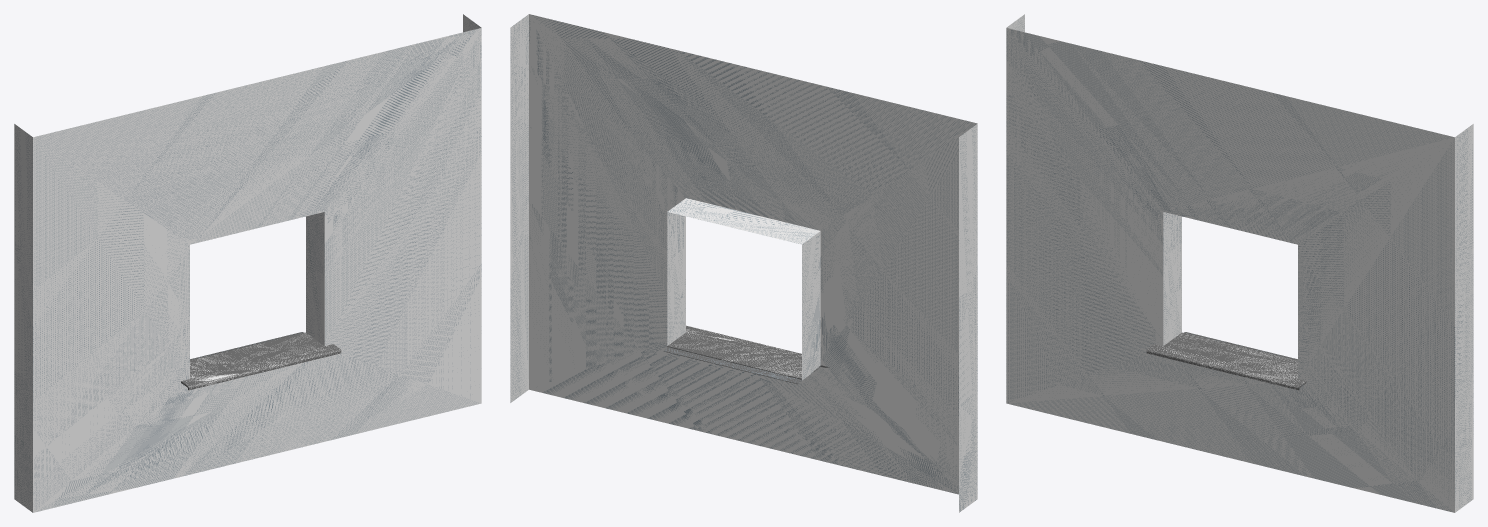
The model's file is WindowBlock_os_[500x400]_150x143x[100].dae.
3 renders of one model, left to right at view 1: azimuth 30°, elevation 25°; view 2: azimuth 150°, elevation 25°; view 3: azimuth 330°, elevation 25°, orthographic.
Parts seen in each view (by area): view 1: group_2 (×2), group_1; view 2: group_2 (×2), group_1 (×2); view 3: group_2 (×2), group_1.
Part boxes in pixels (x1,y1,x2,y2): group_2 (×2): (14,14,481,512); group_1: (181,332,341,390); group_2 (×2): (510,14,977,512); group_1 (×2): (663,325,829,384); group_2 (×2): (1006,14,1473,512); group_1: (1146,332,1306,390).
Bounding box in the file's own units: 197 × 23.03 × 157.
